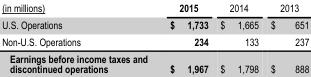table: (1, 1, 308, 74)
table column: (1, 1, 158, 74), (158, 1, 213, 74), (213, 1, 264, 74), (264, 1, 308, 74)
table column header: (1, 1, 308, 15)
table row: (1, 49, 308, 74), (1, 15, 308, 32), (1, 32, 308, 49), (1, 1, 308, 15)
